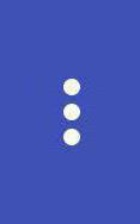ImgButton: (1, 1, 139, 223)
